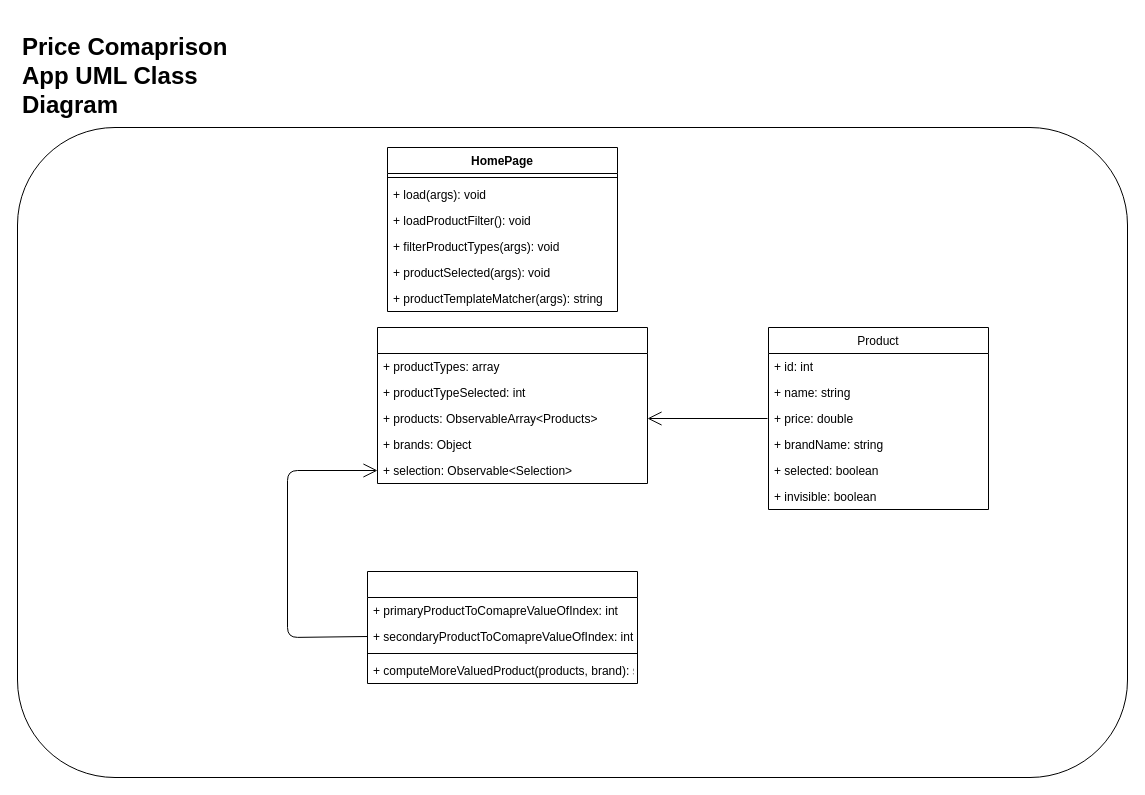
The diagram is 1145 pixels wide and 795 high, and some of its shapes have lost their labels. Each missing label, with the box of its shape:
HomePageModel: (376, 326, 648, 484)
Selection: (366, 570, 638, 684)
